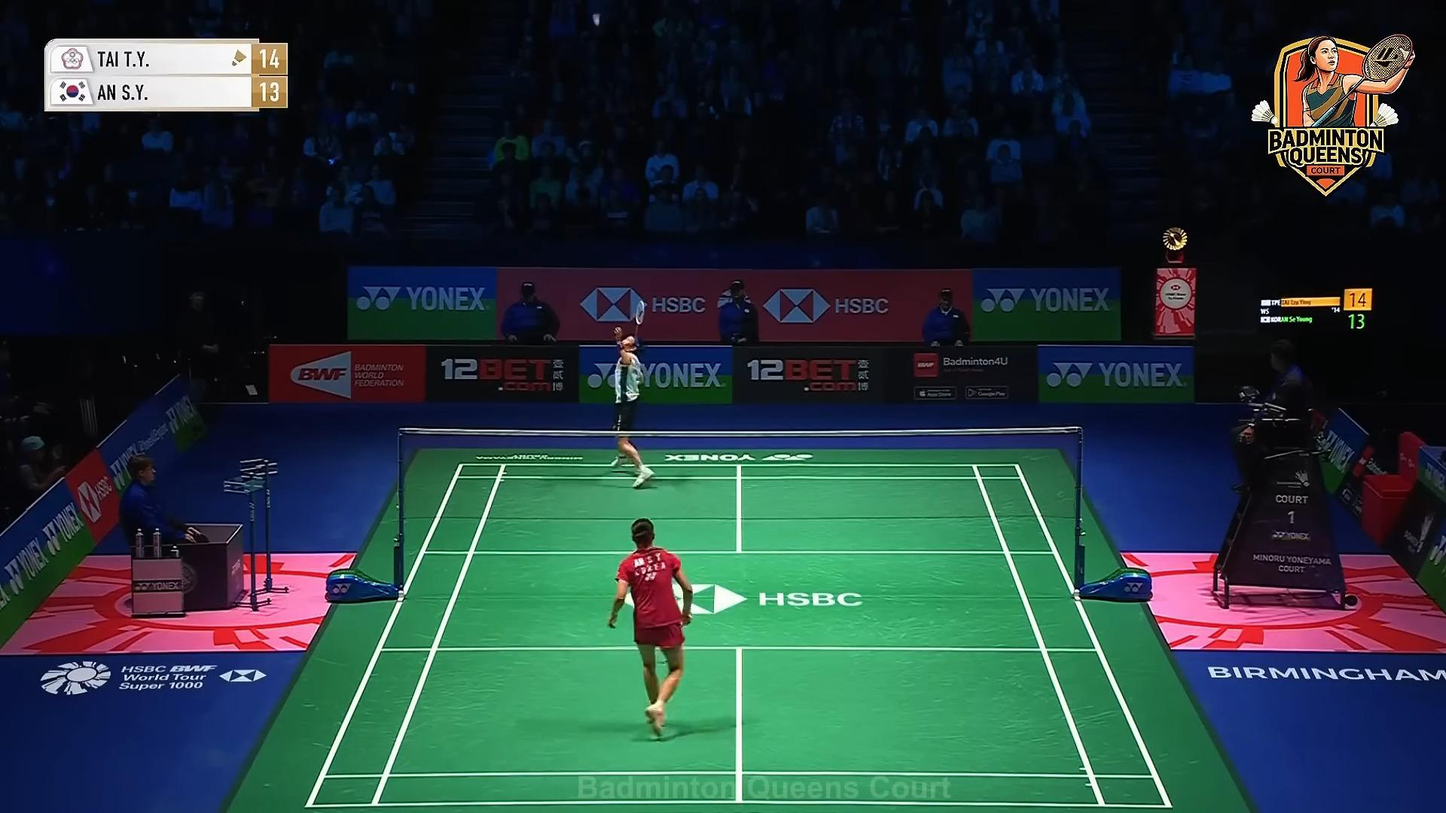player: (608, 517, 694, 739), (612, 325, 655, 489)
